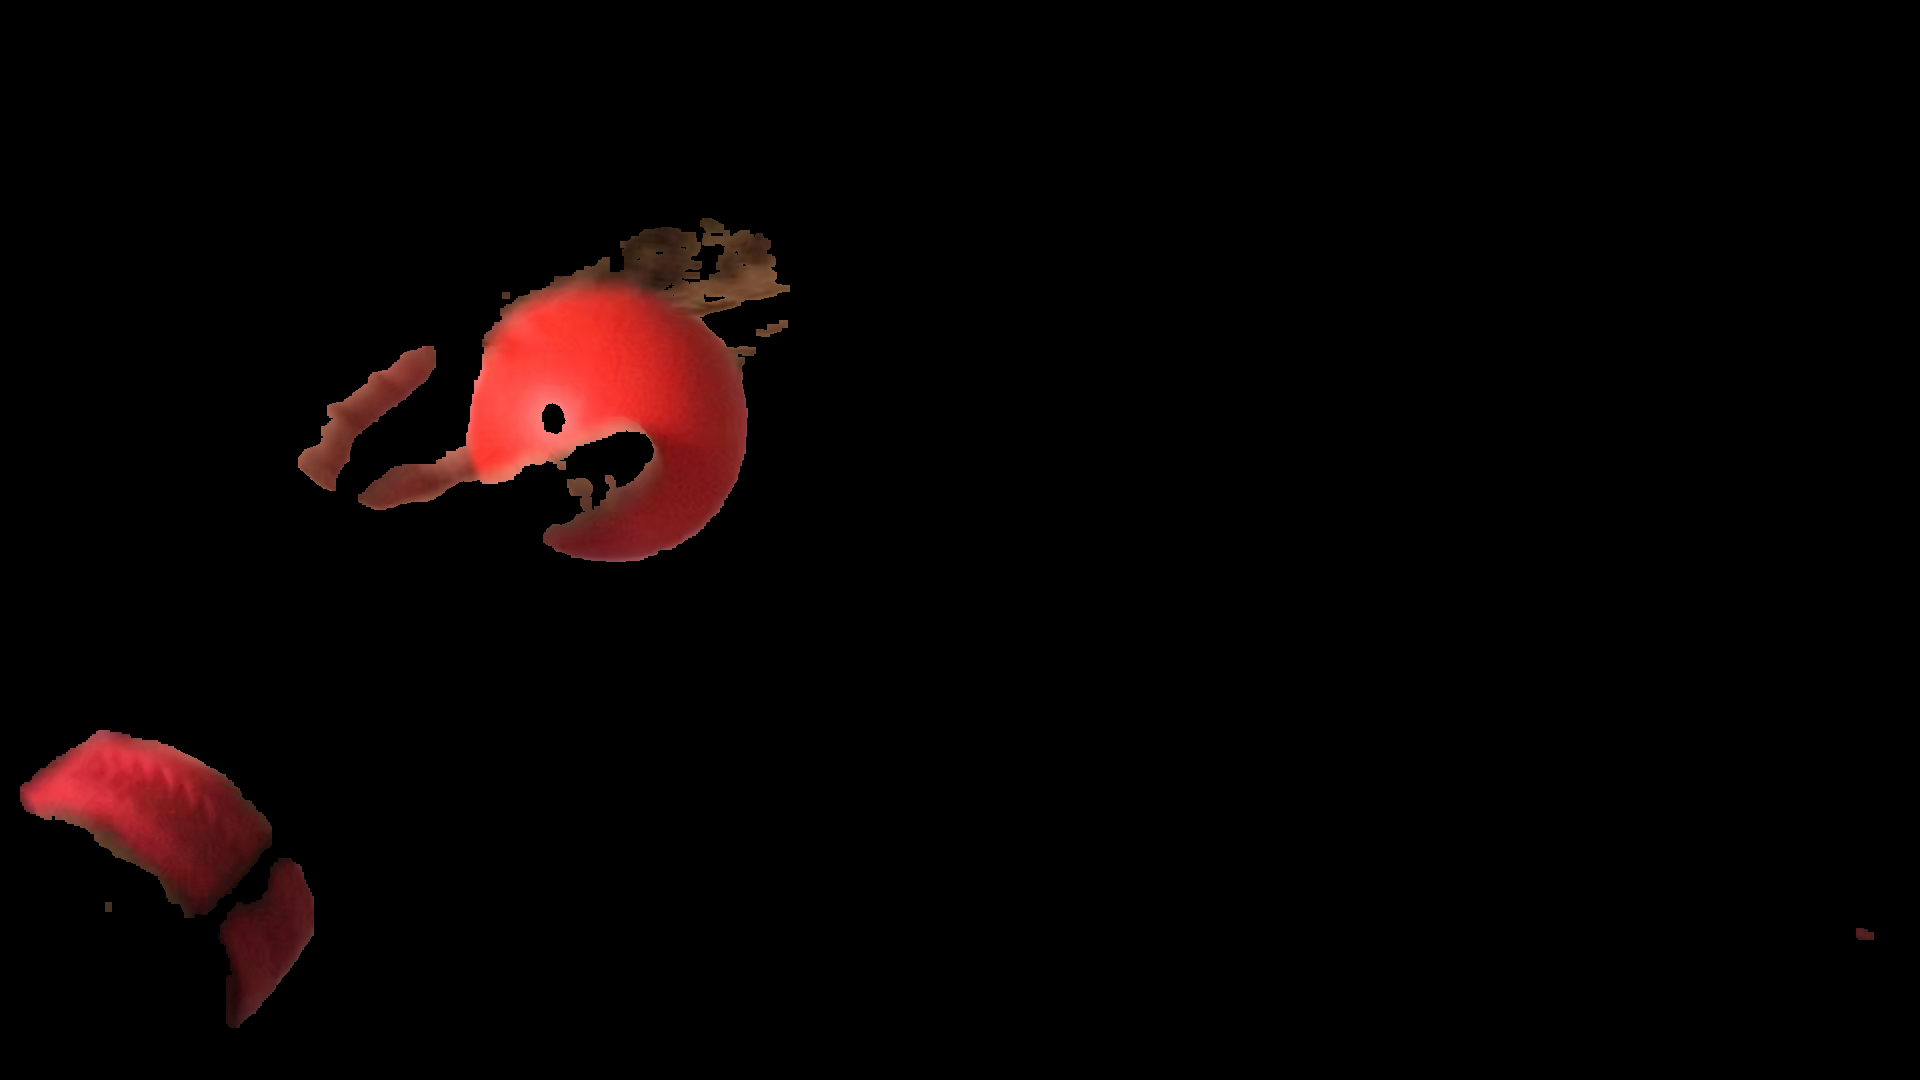Ball: (472, 287, 752, 570)
